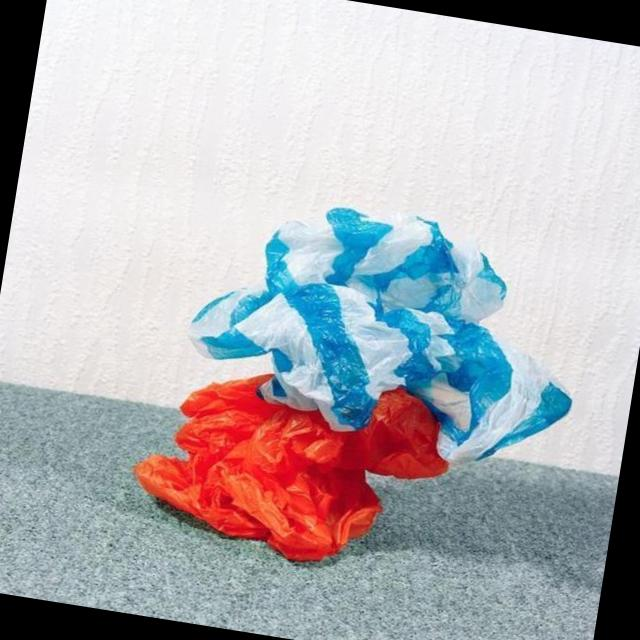KantongPlastik: (122, 175, 598, 600)
